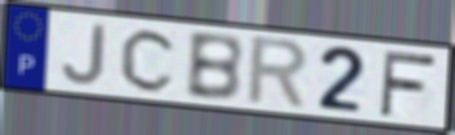2: (313, 44, 370, 115)
B: (183, 32, 246, 104)
C: (117, 26, 181, 94)
F: (377, 48, 440, 118)
J: (59, 22, 109, 87)
R: (243, 34, 313, 113)
